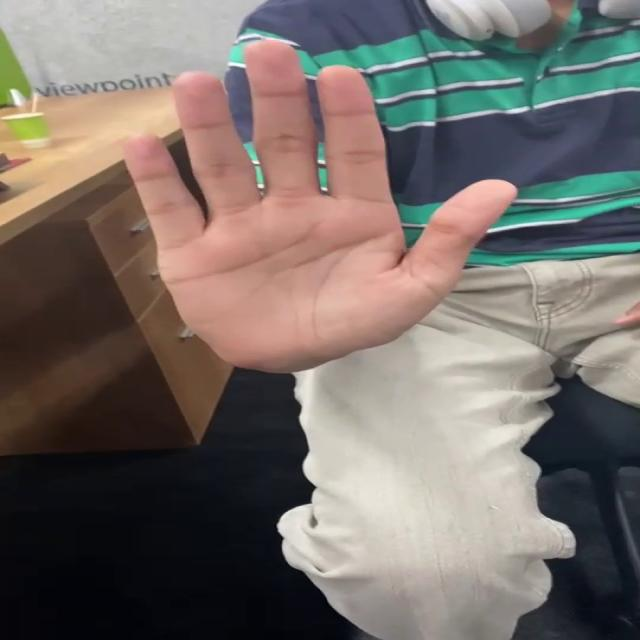no-gloves: (97, 33, 528, 393)
